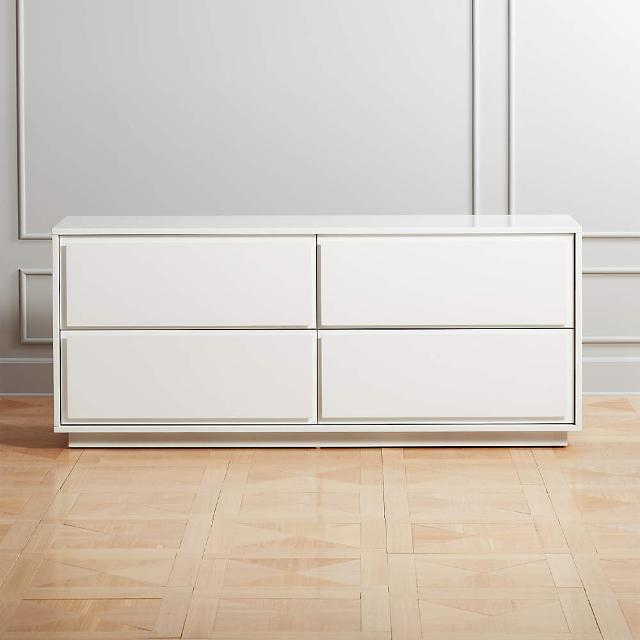dresser: (44, 202, 592, 449)
